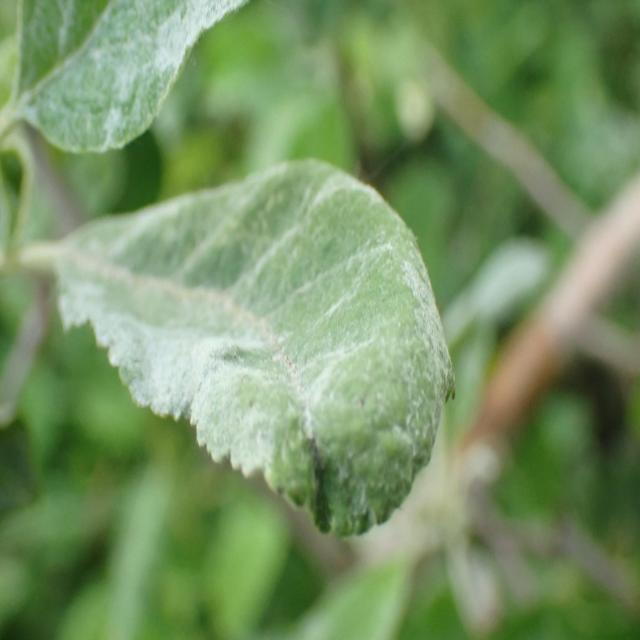Powdery_mildew: (3, 159, 463, 564), (0, 0, 257, 154)
